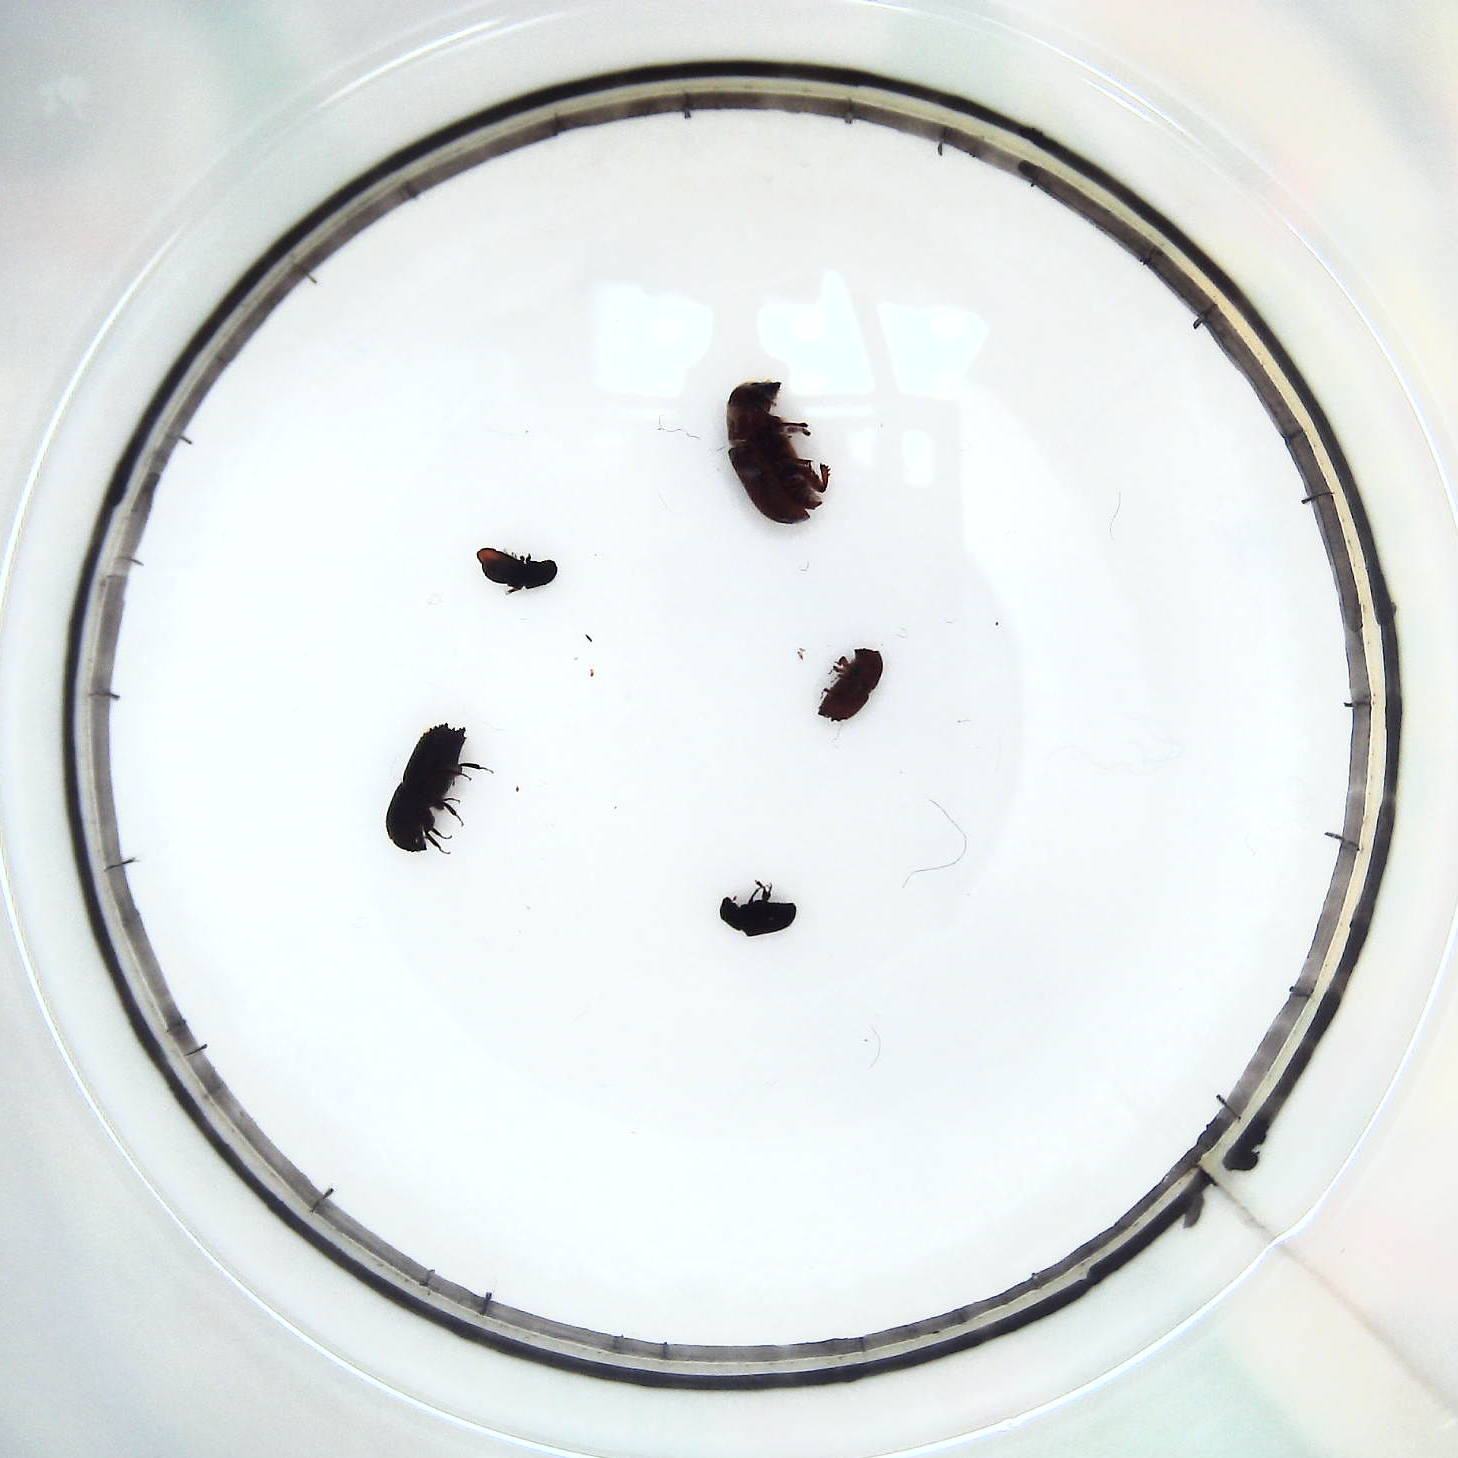Boerner: (382, 720, 490, 856)
Leconte: (724, 373, 833, 531)
armandi: (469, 541, 559, 599)
coleoptera: (712, 880, 804, 939)
linnaeus: (814, 641, 891, 726)
